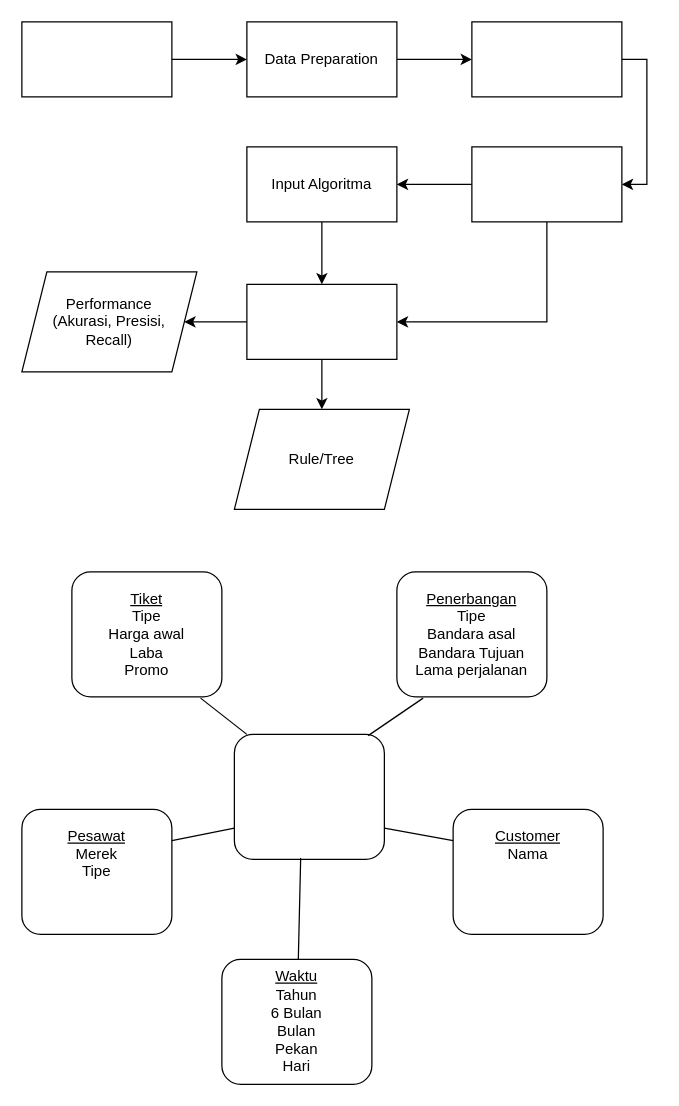
Image size: 679x1106. Some labels were removed from this diagram. The centre of each missing label's shape, as x and y in pixels:
"Apply Model" belongs at (x=321, y=321).
"Collecting Data" belongs at (x=96, y=59).
"Input Data" belongs at (x=546, y=59).
"Split Data" belongs at (x=546, y=184).
"Transaksi Jumlah tiket terjual Total laba bersih Total penerbangan" belongs at (x=308, y=796).
